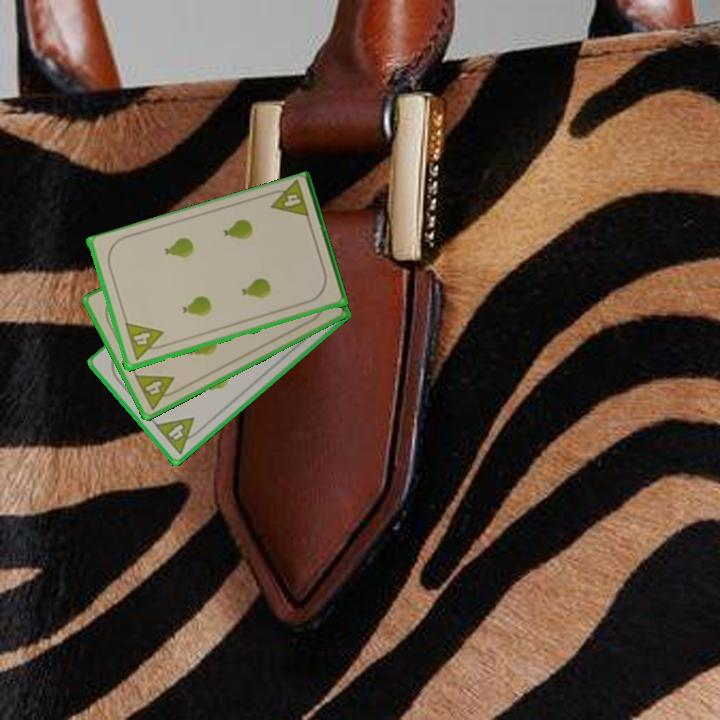4p: (151, 414, 206, 457), (131, 371, 183, 413), (263, 179, 312, 222), (122, 320, 169, 364)
